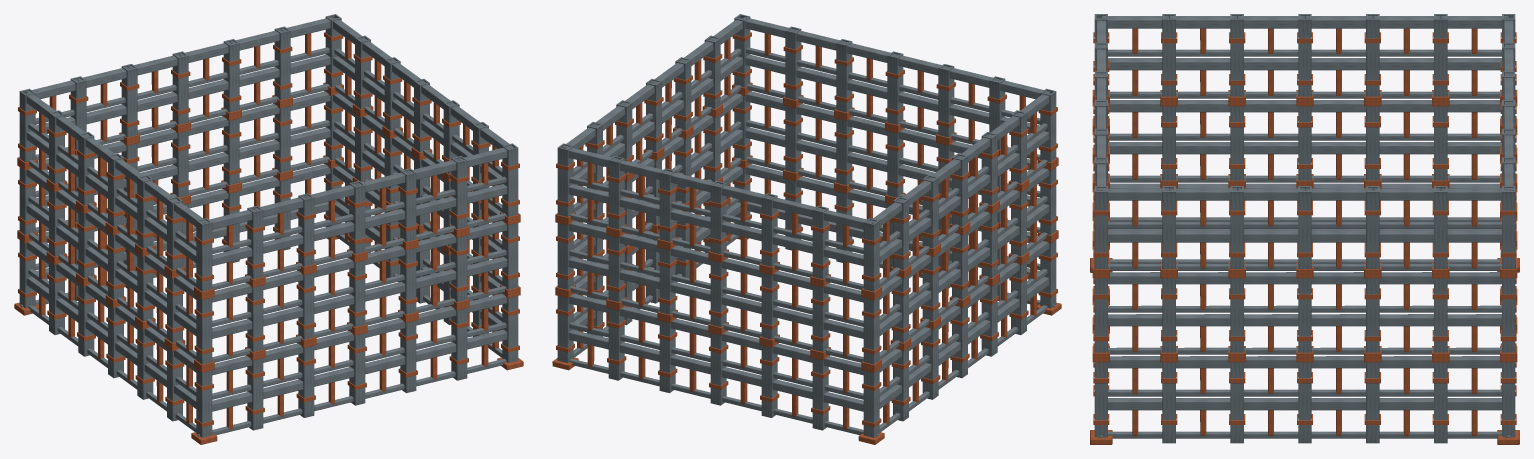
3 views of the same model, side by side, from view 1: azimuth 30°, elevation 25°; view 2: azimuth 150°, elevation 25°; view 3: azimuth 270°, elevation 25° (orthographic). The views are drawn at different scales.
Parts seen in each view (by area): view 1: Tier 2 side 0 post 0, Tier 0 side 0 post 0, Tier 1 side 0 post 0, Tier 2 side 0 post 5, Tier 2 side 0 post 1, Tier 2 side 0 post 2, Tier 2 side 0 post 3, Tier 2 side 0 post 4, Tier 2 side 1 post 0, Tier 2 side 2 post 1, Tier 2 side 2 post 4, Tier 2 side 2 post 3 (+55 smaller); view 2: Tier 2 side 3 post 0, Tier 0 side 3 post 0, Tier 1 side 3 post 0, Tier 2 side 2 post 1, Tier 2 side 2 post 4, Tier 2 side 2 post 5, Tier 2 side 2 post 3, Tier 2 side 2 post 0, Tier 2 side 2 post 2, Tier 0 side 2 post 1, Tier 2 side 0 post 3, Tier 0 side 2 post 2 (+55 smaller); view 3: Tier 0 side 1 post 1, Tier 0 side 1 post 2, Tier 0 side 1 post 3, Tier 0 side 1 post 4, Tier 0 side 1 post 5, Tier 2 side 1 post 3, Tier 2 side 1 post 1, Tier 2 side 1 post 2, Tier 2 side 1 post 4, Tier 2 side 1 post 5, Tier 2 side 3 post 3, Tier 2 side 2 post 0 (+79 smaller).
Part boxes in pixels (x1,y1,x2,y2): Tier 2 side 0 post 0: (196, 218, 212, 291); Tier 0 side 0 post 0: (196, 369, 212, 437); Tier 1 side 0 post 0: (196, 296, 212, 364); Tier 2 side 0 post 5: (451, 156, 467, 229); Tier 2 side 0 post 1: (247, 205, 263, 279); Tier 2 side 0 post 2: (298, 193, 314, 266); Tier 2 side 0 post 3: (349, 180, 365, 254); Tier 2 side 0 post 4: (400, 168, 416, 241); Tier 2 side 1 post 0: (502, 143, 518, 216); Tier 2 side 2 post 1: (274, 26, 290, 99); Tier 2 side 2 post 4: (121, 64, 137, 137); Tier 2 side 2 post 3: (172, 51, 188, 124); Tier 2 side 3 post 0: (863, 218, 879, 291); Tier 0 side 3 post 0: (863, 369, 879, 437); Tier 1 side 3 post 0: (863, 296, 879, 364); Tier 2 side 2 post 1: (608, 156, 624, 229); Tier 2 side 2 post 4: (761, 193, 777, 266); Tier 2 side 2 post 5: (812, 205, 828, 279); Tier 2 side 2 post 3: (710, 180, 726, 254); Tier 2 side 2 post 0: (557, 143, 573, 216); Tier 2 side 2 post 2: (659, 168, 675, 241); Tier 0 side 2 post 1: (608, 308, 624, 380); Tier 2 side 0 post 3: (887, 51, 903, 124); Tier 0 side 2 post 2: (659, 320, 675, 393); Tier 0 side 1 post 1: (1162, 362, 1175, 443); Tier 0 side 1 post 2: (1230, 362, 1243, 443); Tier 0 side 1 post 3: (1298, 362, 1311, 443); Tier 0 side 1 post 4: (1366, 362, 1379, 443); Tier 0 side 1 post 5: (1434, 362, 1447, 443); Tier 2 side 1 post 3: (1298, 186, 1311, 268); Tier 2 side 1 post 1: (1162, 186, 1175, 268); Tier 2 side 1 post 2: (1230, 186, 1243, 268); Tier 2 side 1 post 4: (1366, 186, 1379, 268); Tier 2 side 1 post 5: (1434, 186, 1447, 268); Tier 2 side 3 post 3: (1298, 14, 1311, 96); Tier 2 side 2 post 0: (1502, 186, 1515, 268).
Bounding box in the file's own units: 2.85 × 1.84 × 2.85.
Materials: 2 (2 with a texture image).
